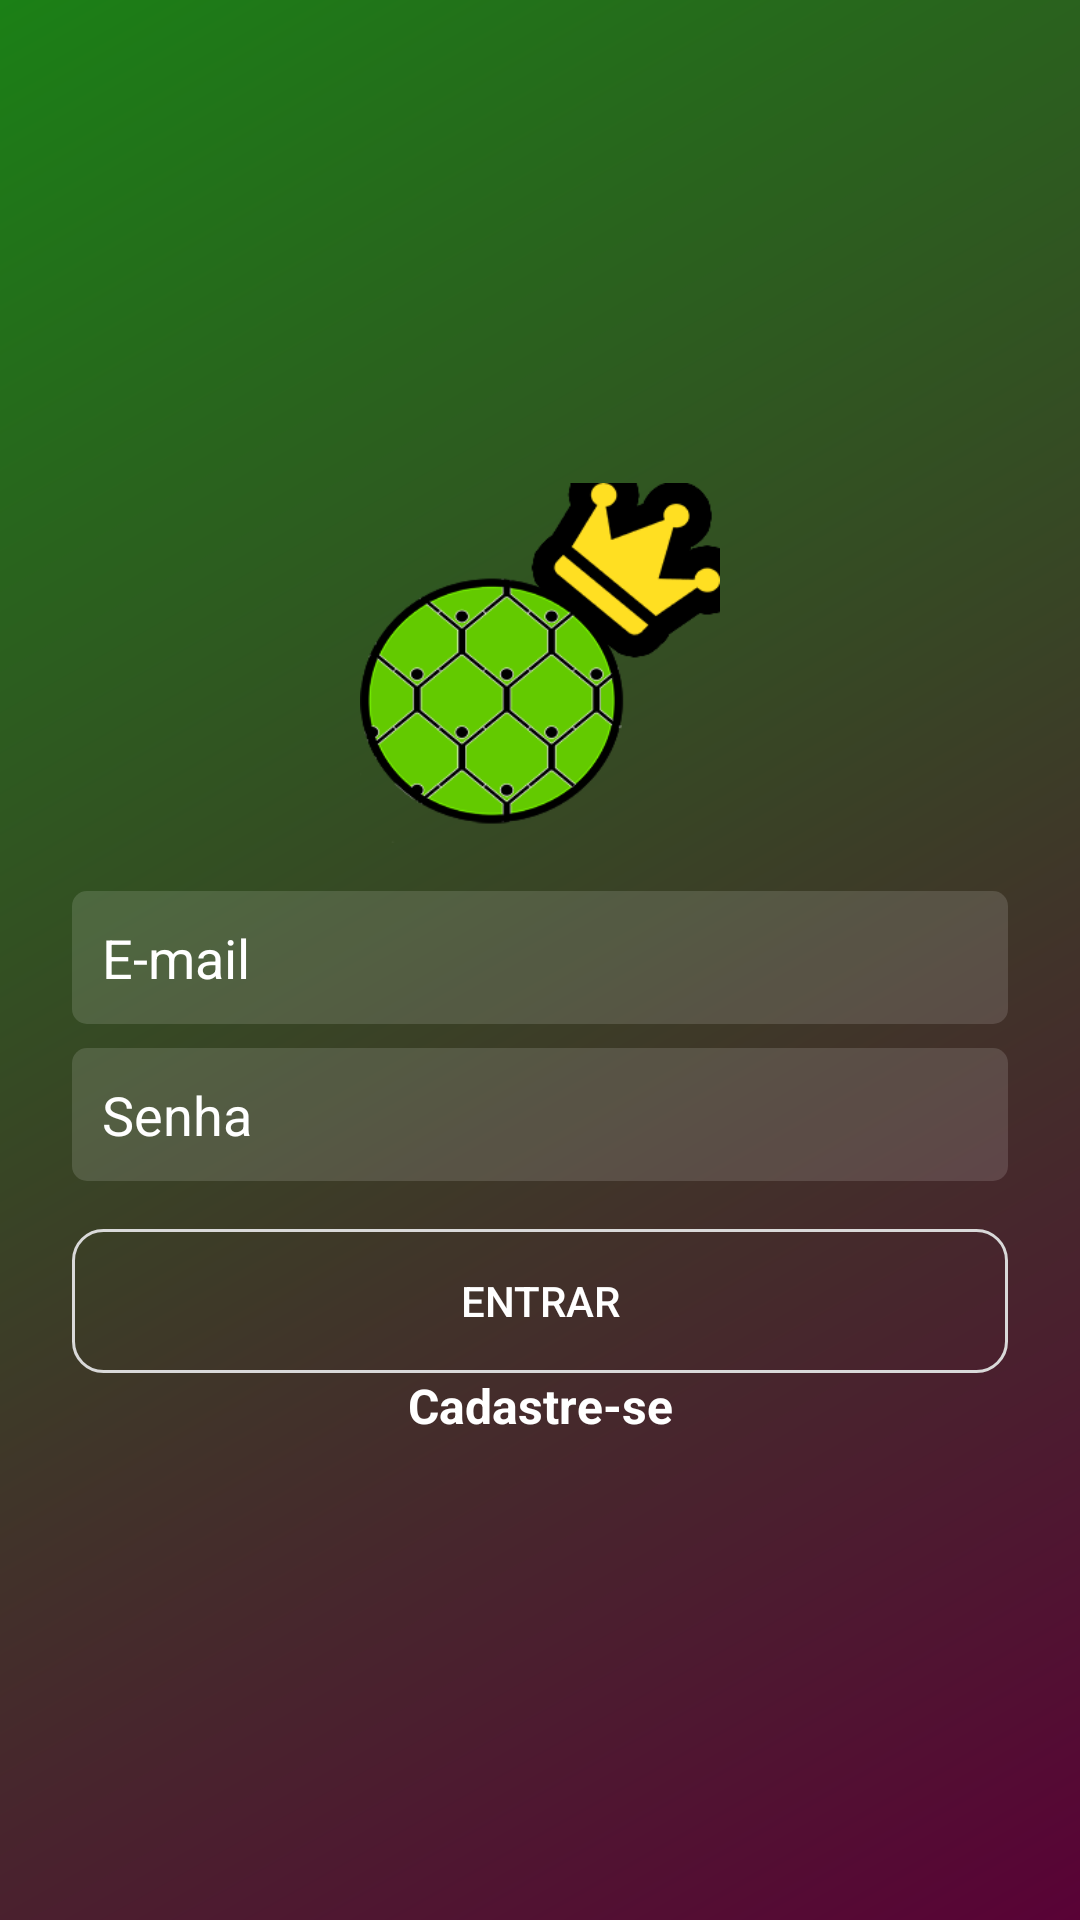

Icon click points for this 1080 × 1920 phone screenshot, format (x=x, y=y):
esportesocial: (x=540, y=653)
